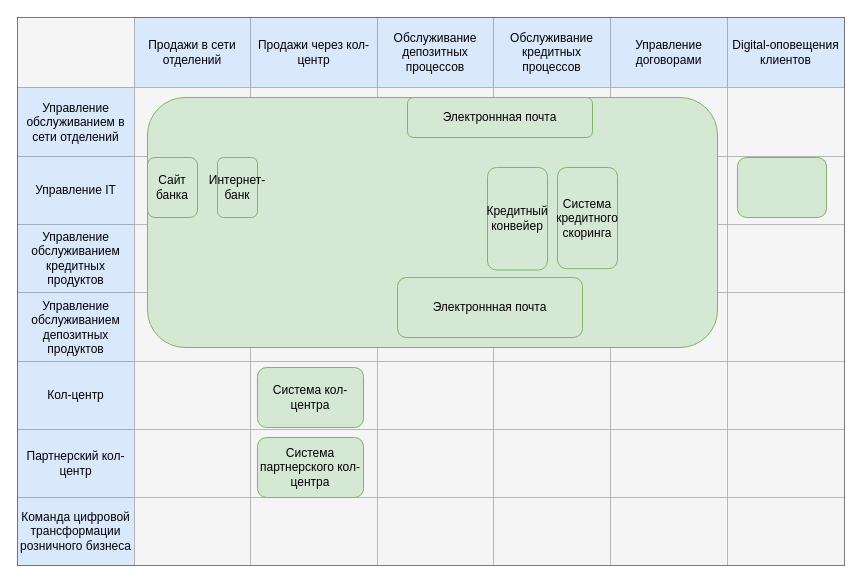
Image size: 862x583. Some labels were removed from this diagram. The box of each missing label's shape, as (x1, y1, x2, y2) in pixels:
АБС: (146, 96, 718, 348)
СМС-шлюз к внешнему оператору: (736, 156, 826, 218)
